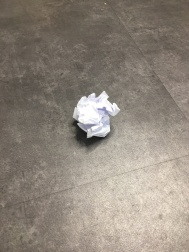paper_white: (51, 74, 127, 154)
